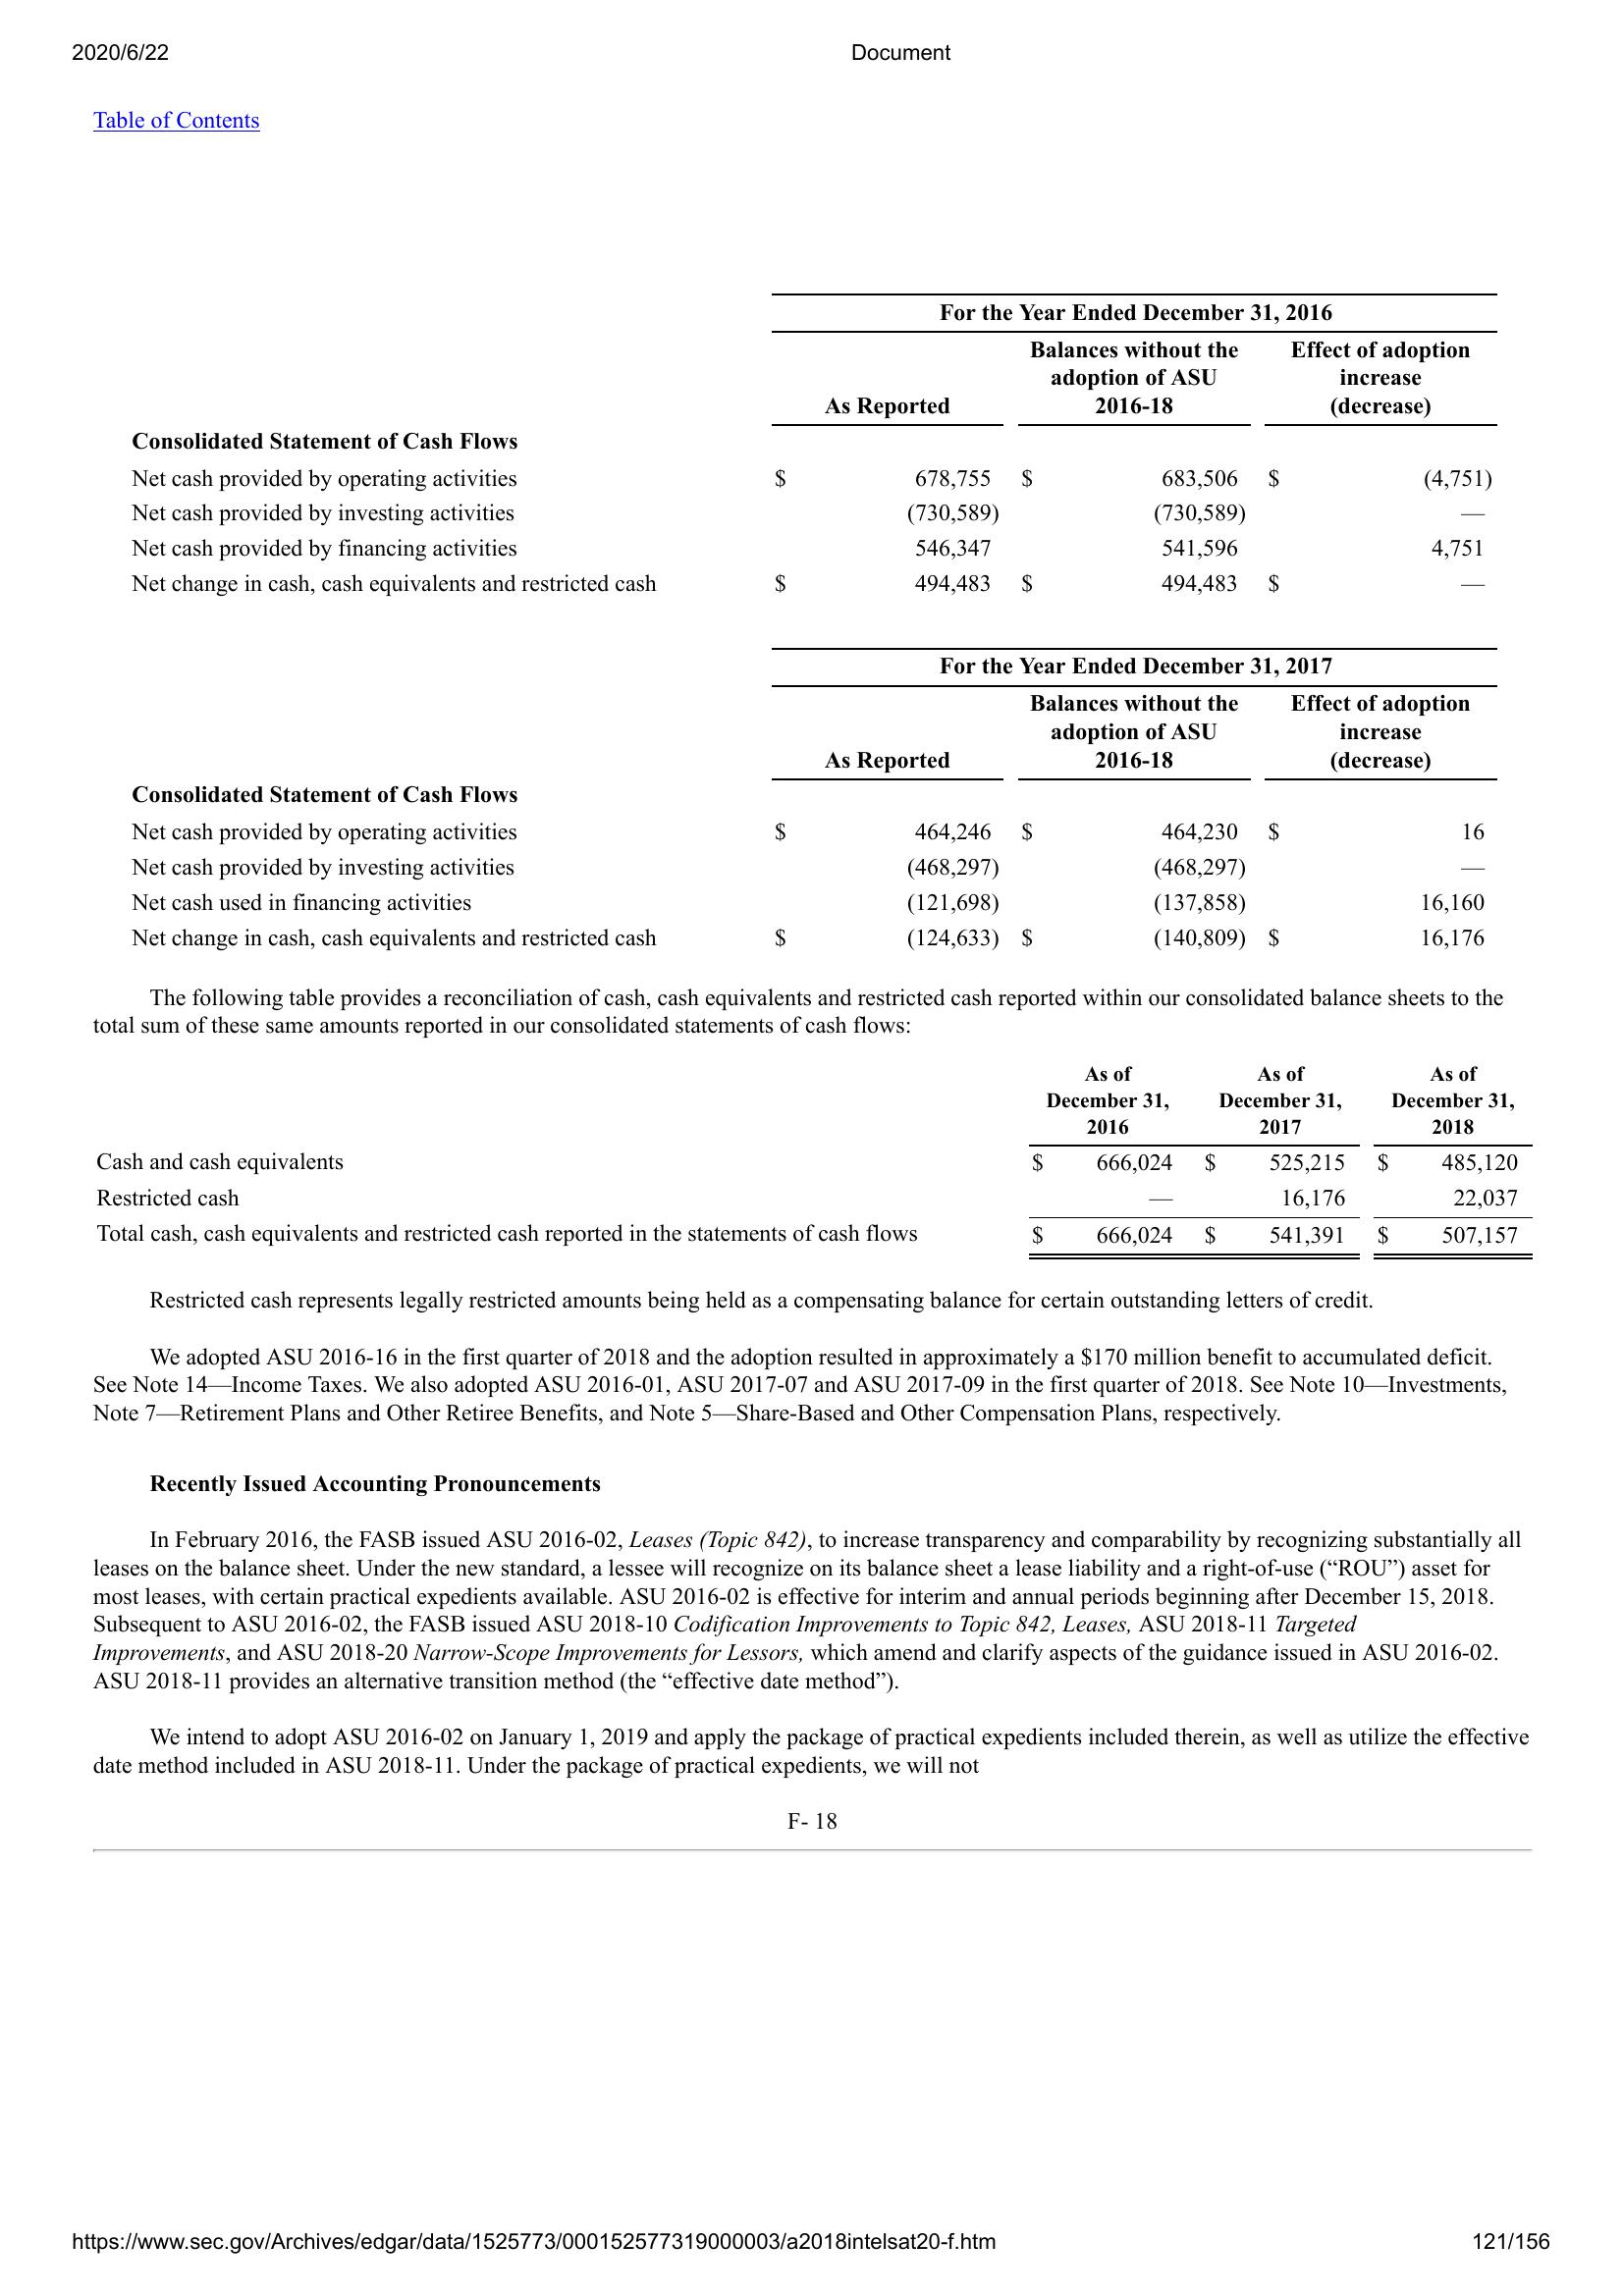table: (123, 288, 1509, 967), (84, 1062, 1535, 1262)
